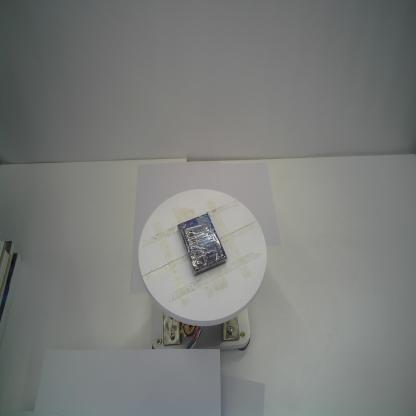Gum: (176, 212, 228, 277)
